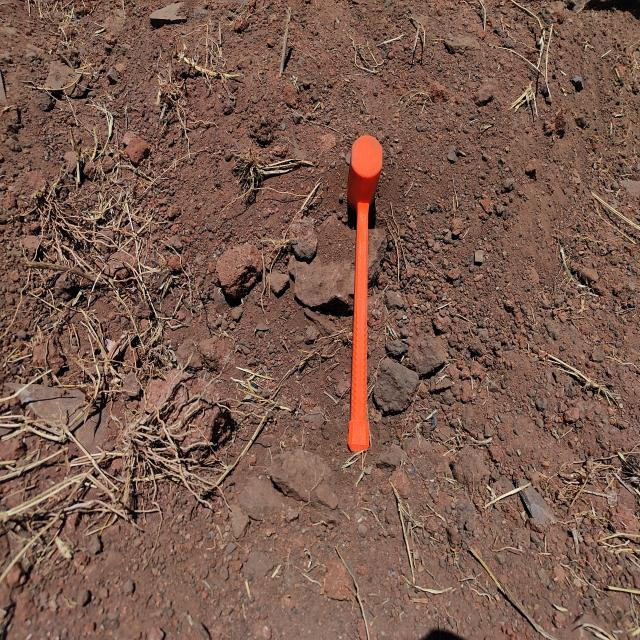Orange_hammer: (345, 134, 383, 454)
